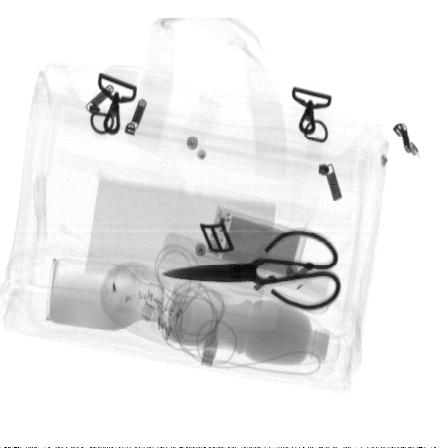Powerbank: (204, 205, 311, 286)
Scissors: (161, 229, 342, 312)
